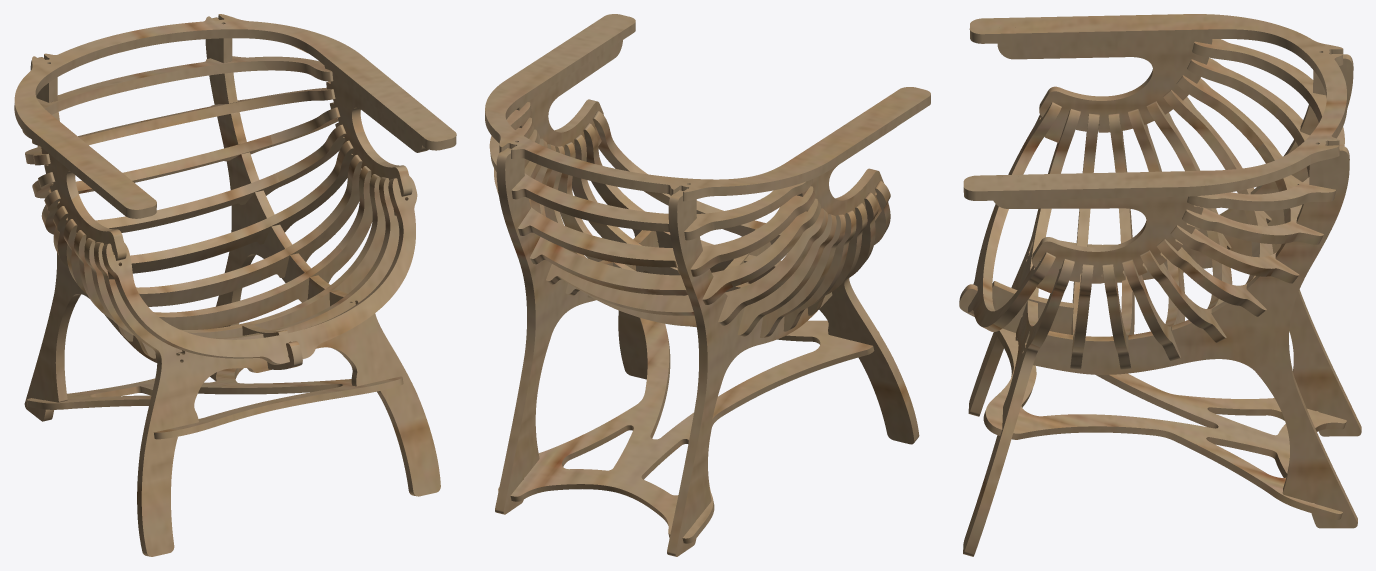
The model's file is wood.glb.
3 renders of one model, left to right at view 1: azimuth 30°, elevation 25°; view 2: azimuth 150°, elevation 25°; view 3: azimuth 270°, elevation 25°, orthographic. The views are drawn at different scales.
Visible parts, largest first — view 1: Merged Objects 2; view 2: Merged Objects 2; view 3: Merged Objects 2.
Boxes of the visible parts, left/top/right/bottom form: Merged Objects 2: left=14, top=14, right=456, bottom=556; Merged Objects 2: left=485, top=14, right=930, bottom=556; Merged Objects 2: left=959, top=14, right=1361, bottom=556.
Bounding box in the file's own units: 0.6863 × 0.7245 × 0.6774.
Materials: 1 (1 with a texture image).
